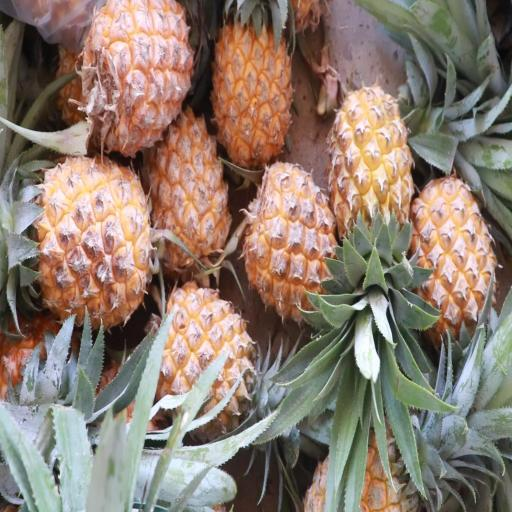Pineapple - v8 v1: (0, 148, 156, 326), (78, 2, 196, 159), (150, 282, 264, 440), (406, 172, 500, 359), (240, 159, 343, 328), (326, 82, 414, 279), (142, 104, 233, 281), (211, 0, 294, 184)
